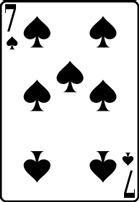seven of spades: (2, 1, 138, 202)
